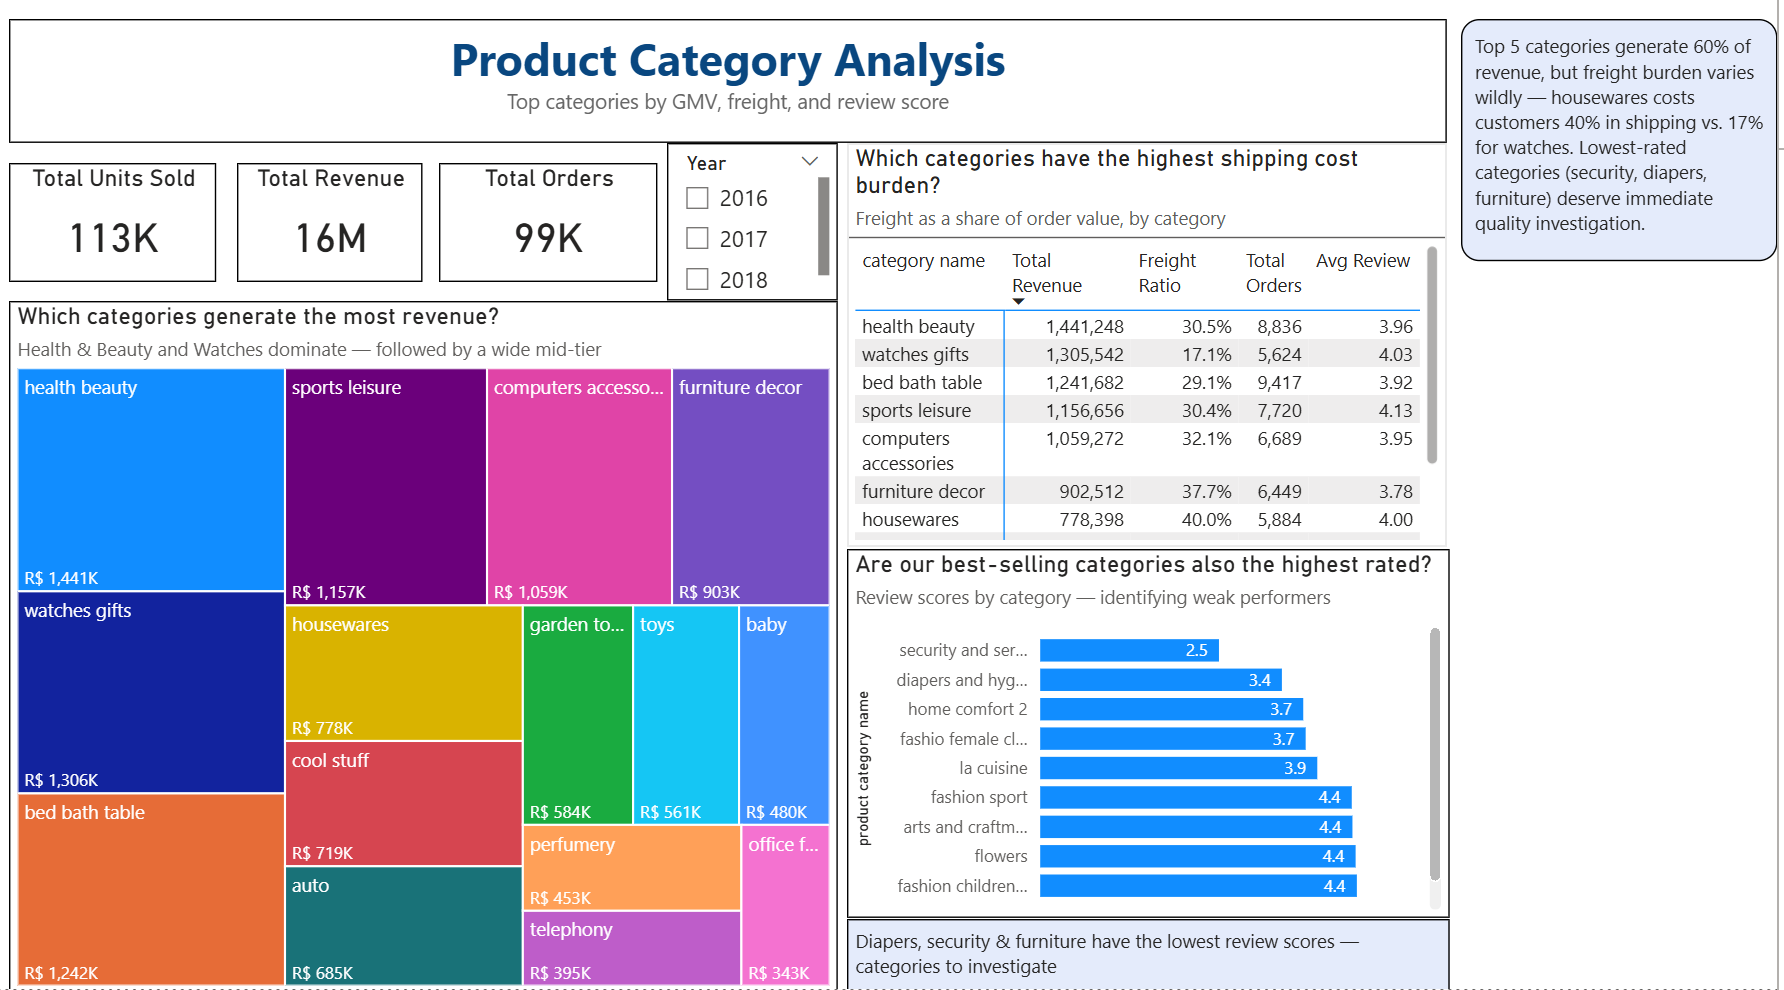

This screenshot's page, from the dashboard's own definition file:
{"tool":"powerbi","page":{"name":"Product Category Analysis","canvas":[1280,720],"ordinal":1},"visuals":[{"type":"clusteredBarChart","title":"Are our best-selling categories also the highest rated? ","fields":{"Category":["product_category_analysis.product_category_name_english"],"Y":["Avg(product_category_analysis.avg_review_score)"]},"box":[615.3,405.6,430.3,263.7],"z":0},{"type":"pivotTable","title":"Which categories have the highest shipping cost burden?","fields":{"Rows":["product_category_analysis.product_category_name_english"],"Values":["Sum(product_category_analysis.total_revenue)","Avg(product_category_analysis.avg_freight_ratio)","Sum(product_category_analysis.total_orders)","Avg(product_category_analysis.avg_review_score)"]},"box":[615.3,115.7,428.7,288.4],"z":1000},{"type":"card","title":"Total Revenue","fields":{"Values":["Sum(product_category_analysis.total_revenue)"]},"box":[180.4,129.5,132.6,84.8],"z":2000},{"type":"card","title":"Total Units Sold","fields":{"Values":["Sum(product_category_analysis.total_units_sold)"]},"box":[17,129.5,148,84.8],"z":3000},{"type":"card","title":"Total Orders","fields":{"Values":["Sum(product_category_analysis.total_orders)"]},"box":[323.9,129.5,155.8,84.8],"z":4000},{"type":"slicer","fields":{"Values":["product_category_analysis.order_purchase_year"]},"box":[487.3,115.7,121.8,112.6],"z":5000},{"type":"treemap","title":"Which categories generate the most revenue?","fields":{"Group":["product_category_analysis.product_category_name_english"],"Values":["Sum(product_category_analysis.total_revenue)"]},"box":[17,228.2,592.2,495],"z":6000},{"type":"textbox","box":[17.1,27.1,1027.1,88.6],"z":7000},{"type":"textbox","box":[615.3,669.3,430.3,54],"z":8000},{"type":"textbox","box":[1053.8,27.3,226.2,173.2],"z":9000}]}

Visuals, with their boxes in screenshot pixels (x1, y1, x2, y2), scaled from the page's 1280x720 canvas onto the 1784x990 screenshot:
"Are our best-selling categories also the highest rated? " clusteredBarChart: [858,558,1457,920]
"Which categories have the highest shipping cost burden?" pivotTable: [858,159,1455,556]
"Total Revenue" card: [251,178,436,295]
"Total Units Sold" card: [24,178,230,295]
"Total Orders" card: [451,178,669,295]
slicer - product_category_analysis.order_purchase_year: [679,159,849,314]
"Which categories generate the most revenue?" treemap: [24,314,849,989]
textbox: [24,37,1455,159]
textbox: [858,920,1457,989]
textbox: [1469,38,1783,276]
